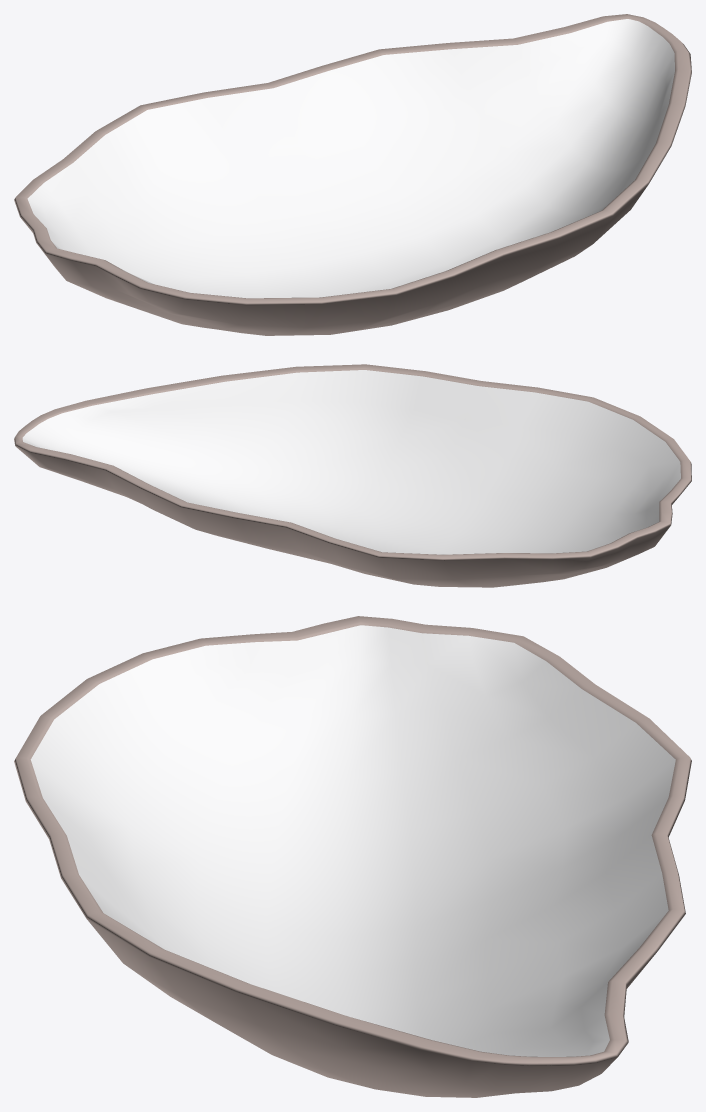
The model's file is Oysters_Empty_2.fbx.
3 views of the same model, one above another, from view 1: azimuth 30°, elevation 25°; view 2: azimuth 150°, elevation 25°; view 3: azimuth 270°, elevation 25° (orthographic). The views are drawn at different scales.
Parts seen in each view (by area): view 1: Oysters_Empty_2; view 2: Oysters_Empty_2; view 3: Oysters_Empty_2.
Part boxes in pixels (<box>): Oysters_Empty_2: <box>14,14,691,335</box>; Oysters_Empty_2: <box>14,364,691,587</box>; Oysters_Empty_2: <box>14,616,691,1097</box>.
Bounding box in the file's own units: 8.48 × 1.47 × 5.43.
